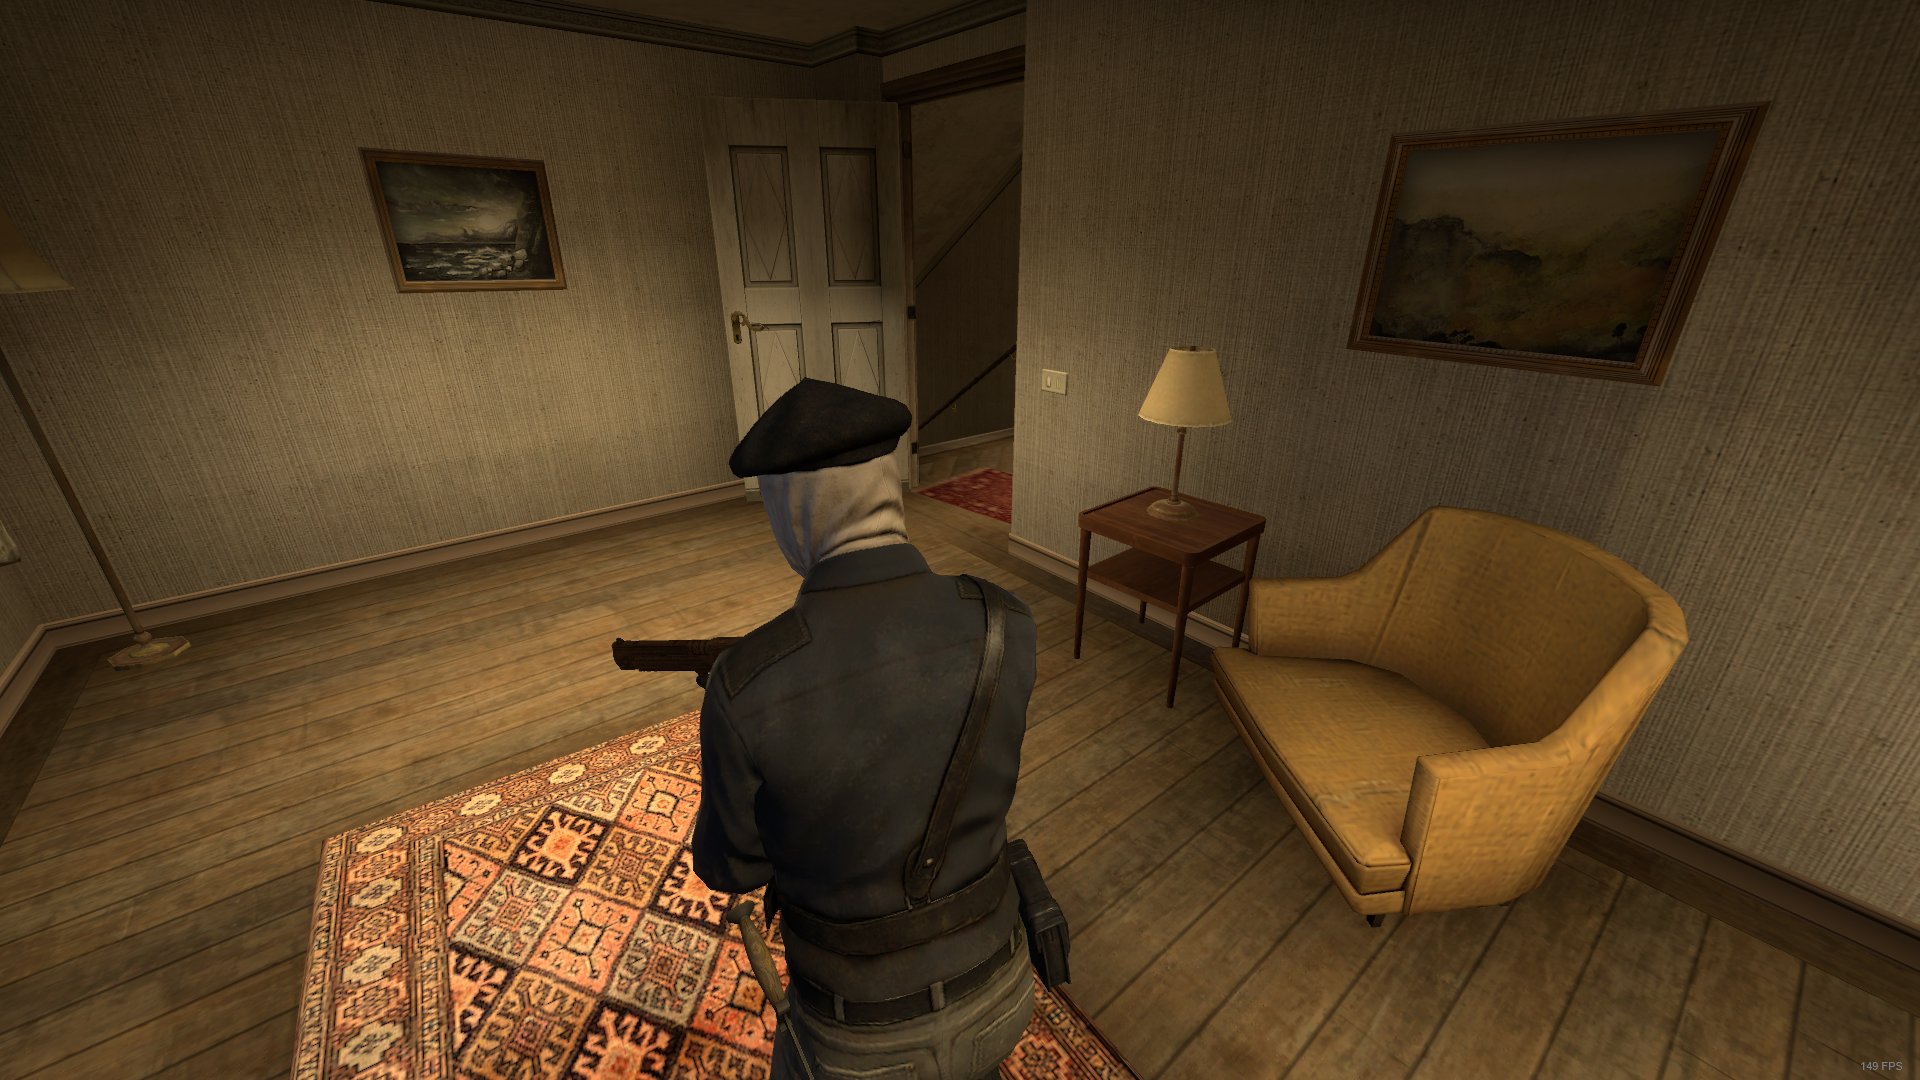t: (603, 355, 1106, 1080)
